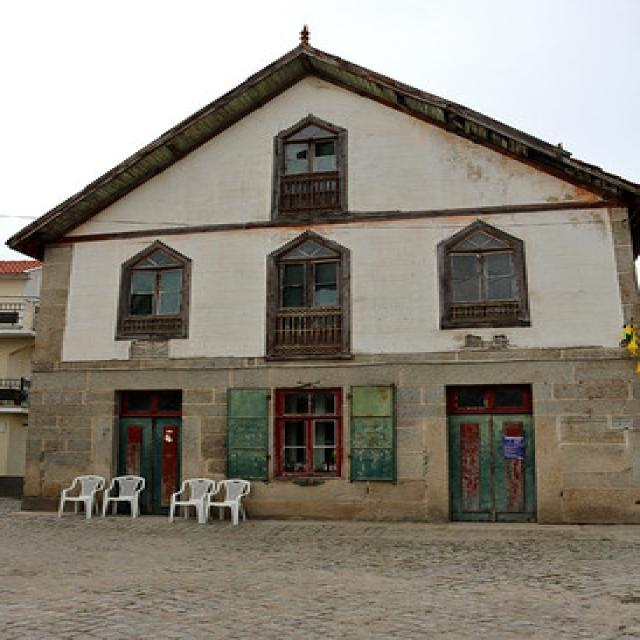building: (7, 36, 640, 534)
